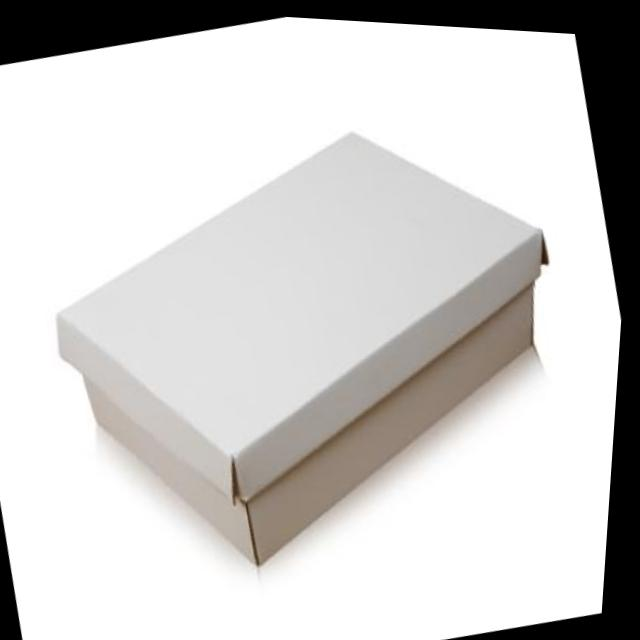box: (0, 60, 637, 625)
